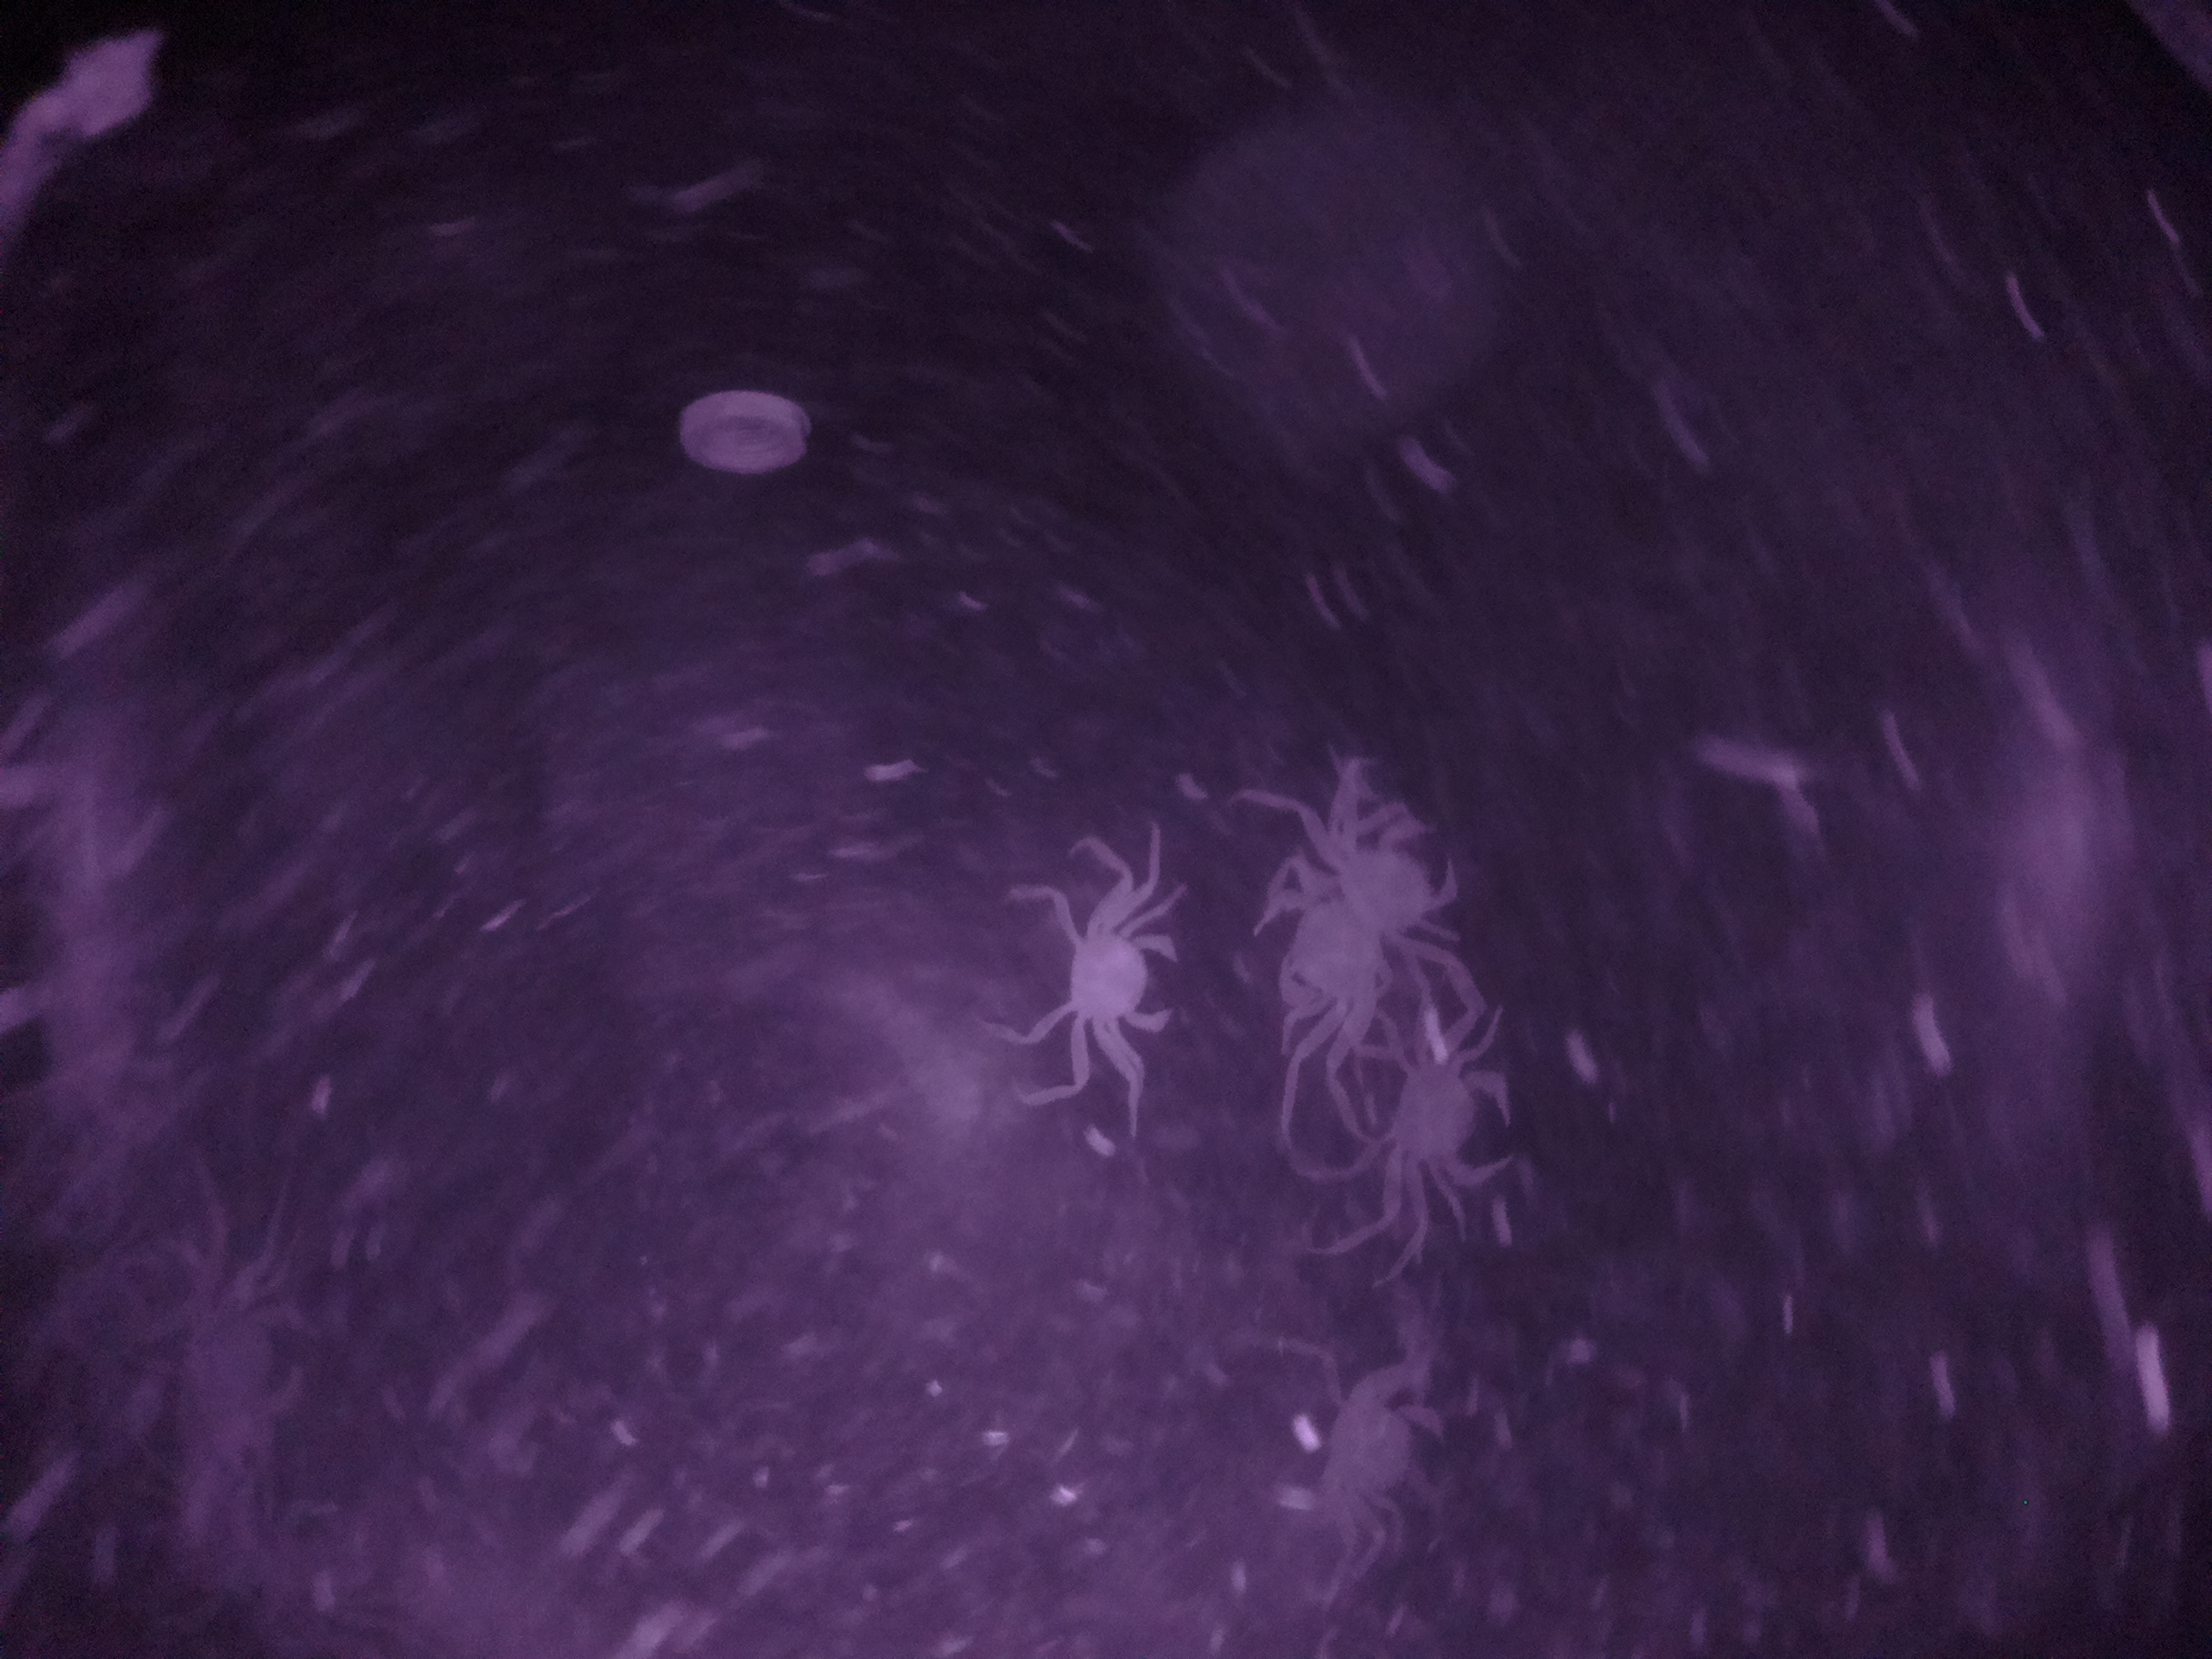Crab: (1014, 873, 1195, 1072), (1355, 1028, 1527, 1209)
